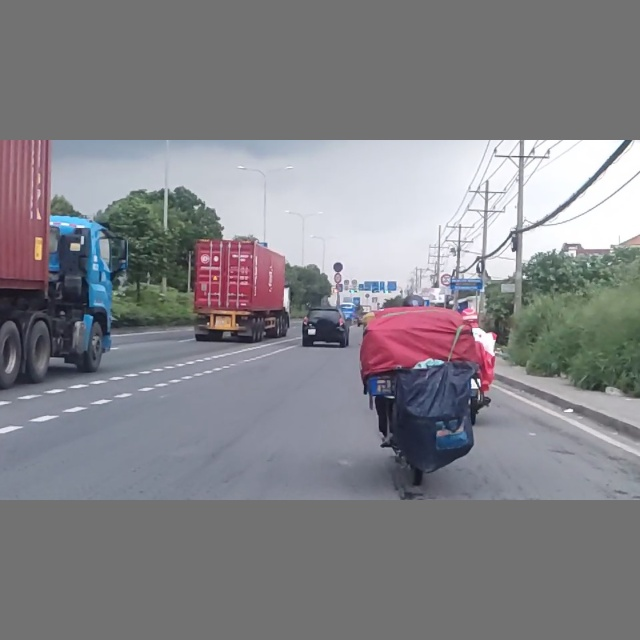P.107: (441, 273, 453, 286)
P.130: (333, 262, 344, 272)
